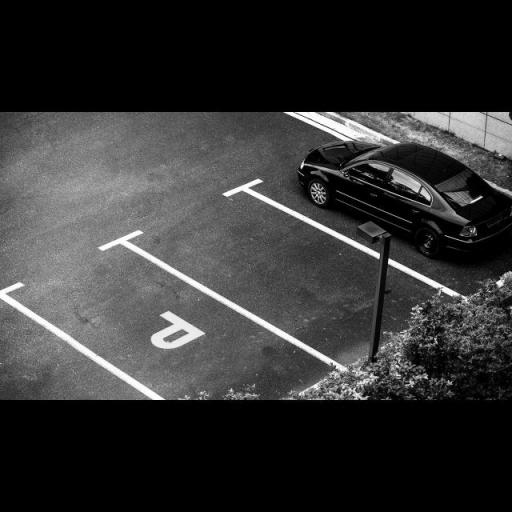busy: (325, 141, 512, 264)
free: (196, 210, 337, 305)
